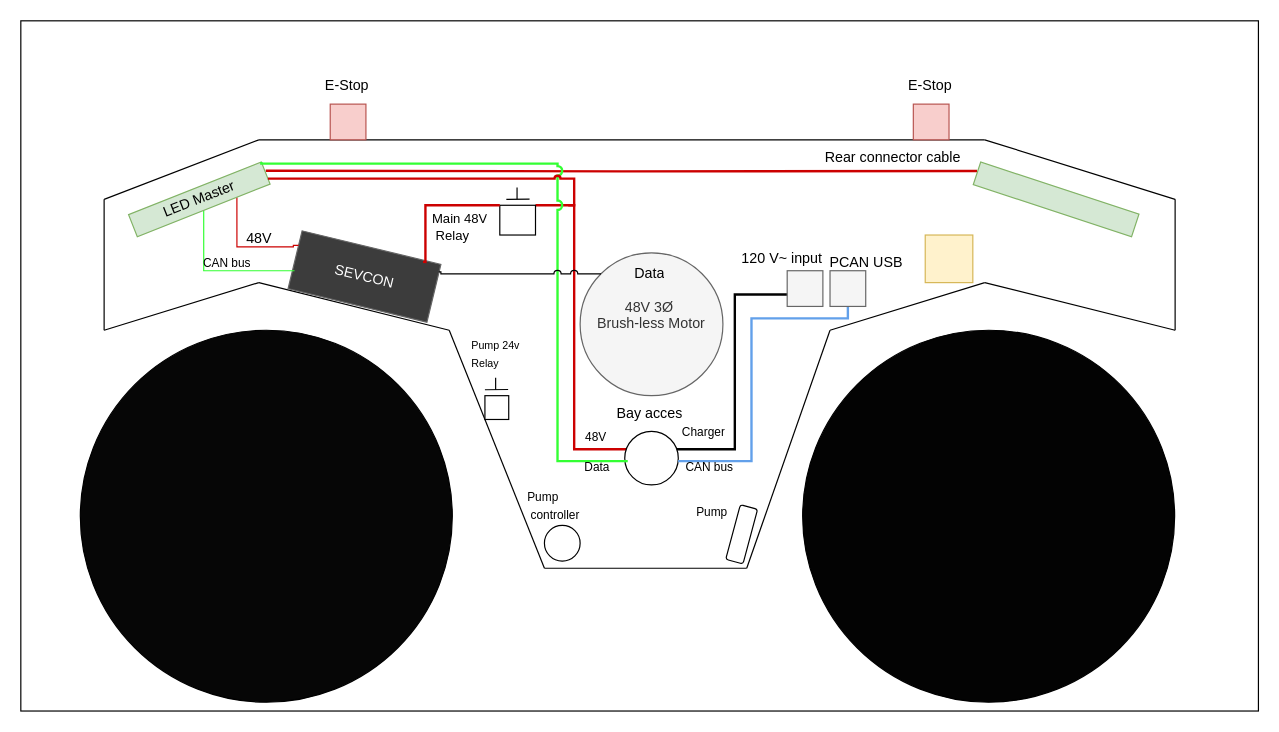
The diagram is 1279 pixels wide and 732 high, and some of its shapes have lost their labels. Here are the shapes that lost their labels. From the top down, the centre of each, then its label:
the point at 1055,199: LED Slave
the point at 948,258: Fort VSC
